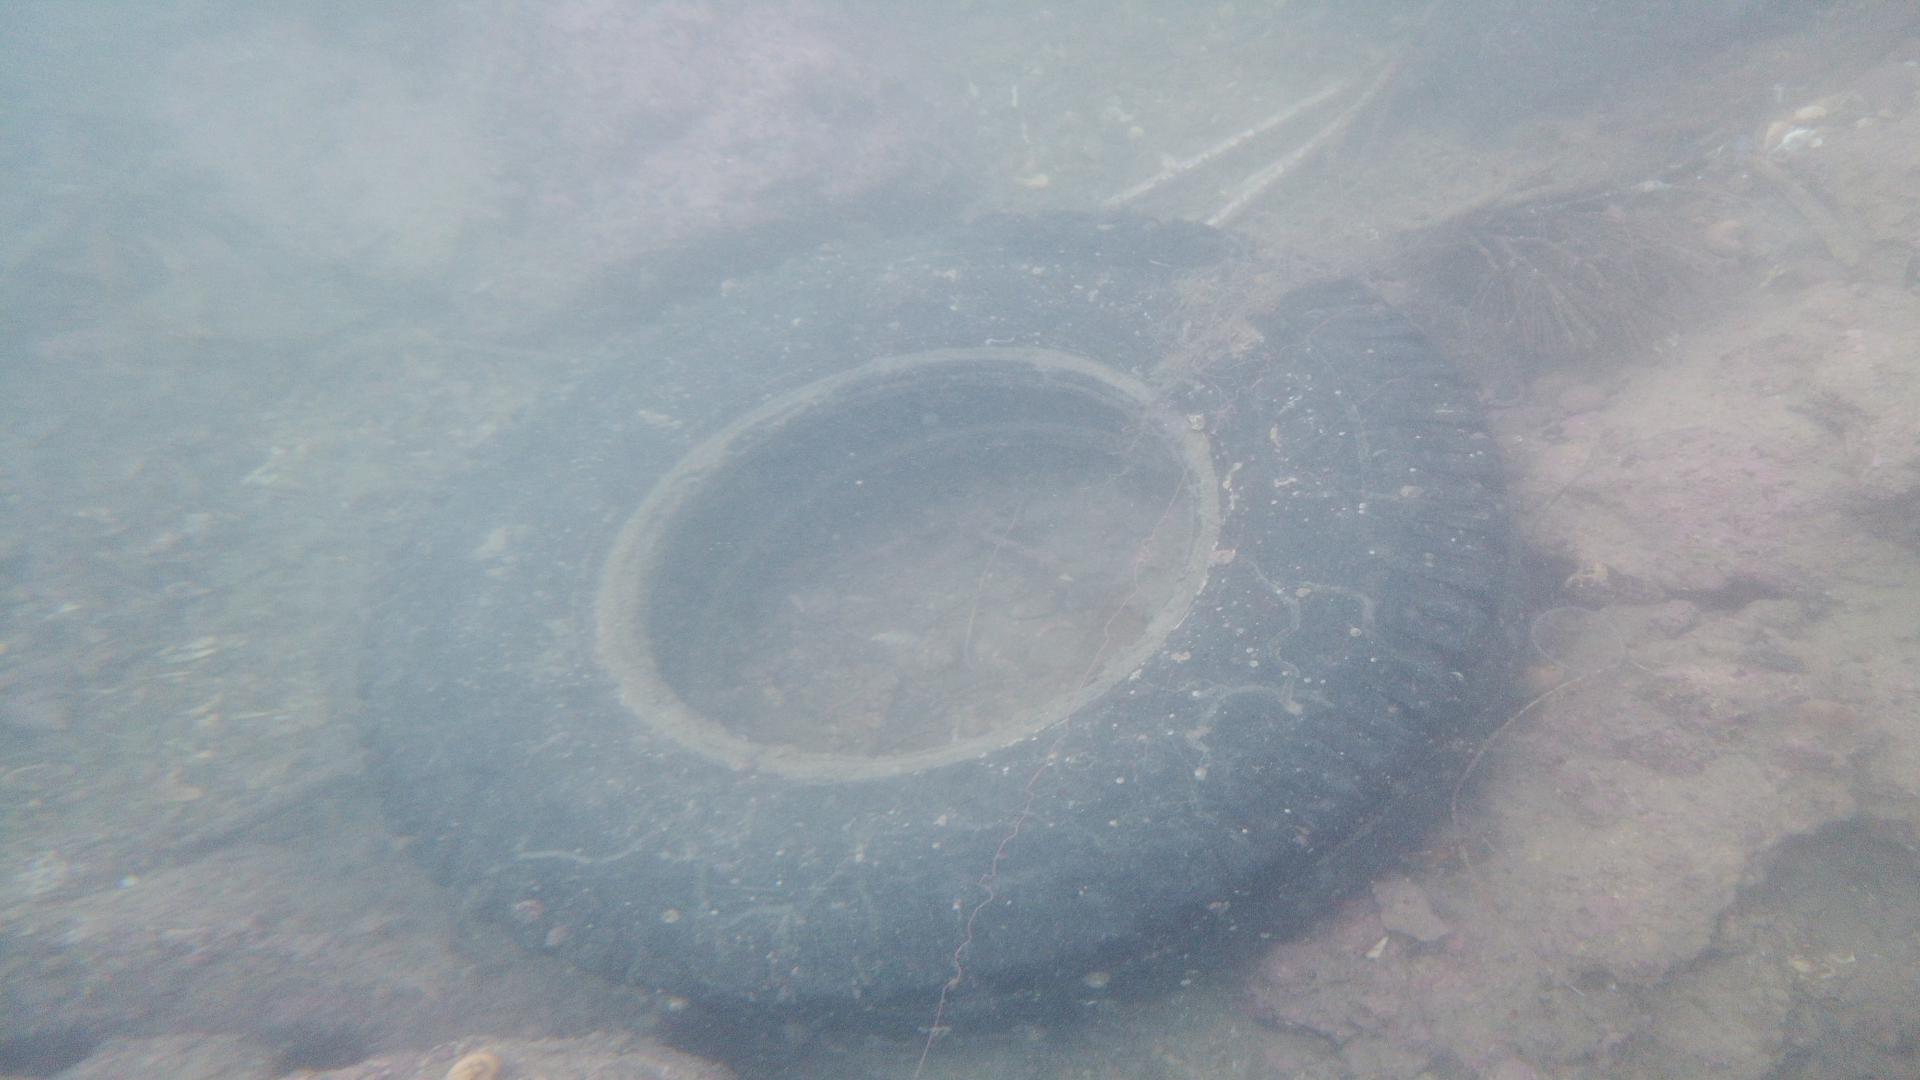tire: (361, 216, 1519, 1038)
